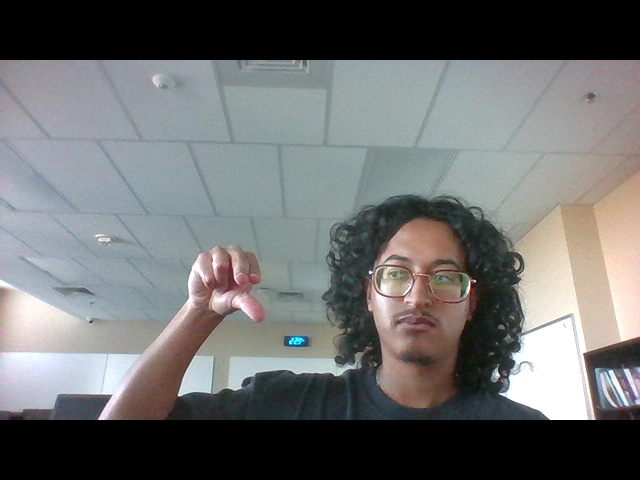no: (179, 231, 276, 336)
